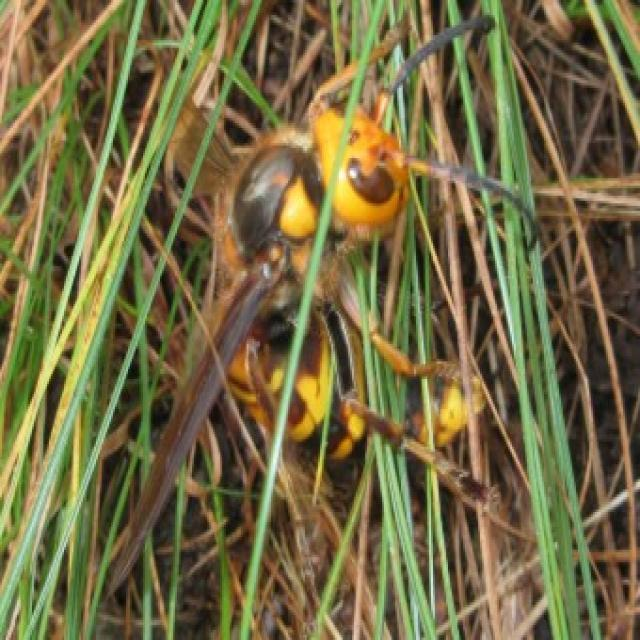Wasp: (144, 25, 494, 511)
